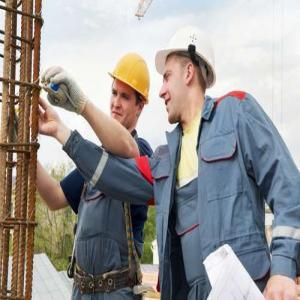white: (157, 26, 218, 125)
yellow: (109, 52, 152, 133)
